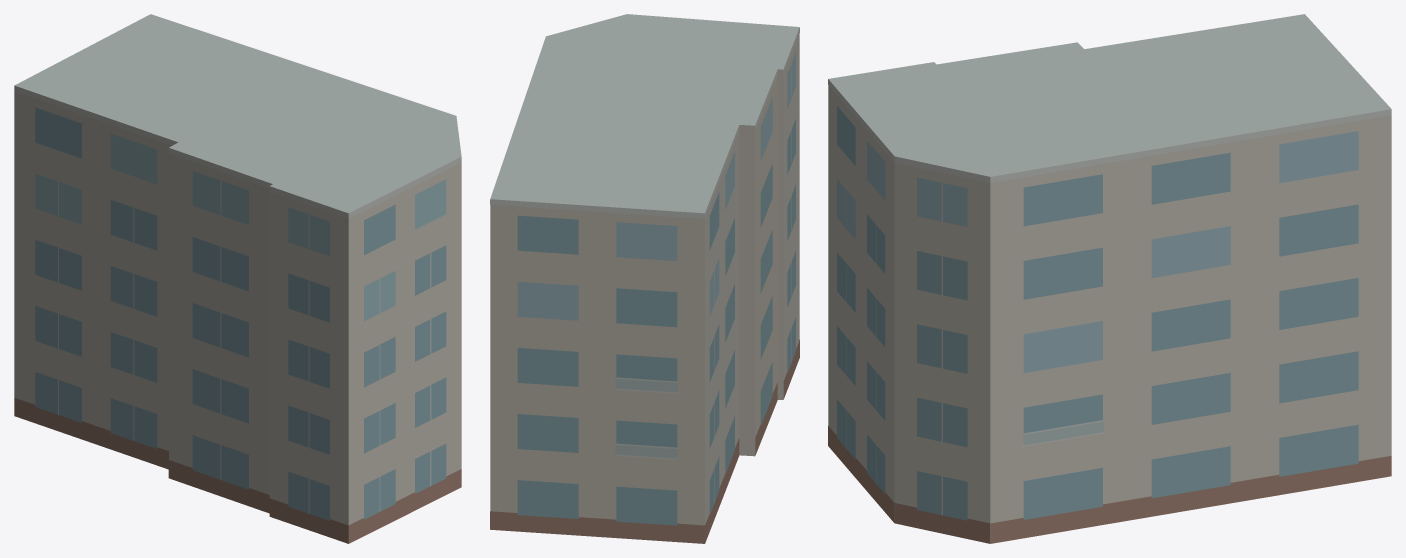
The model's file is survey-upis-32703356.glb.
3 views of the same model, side by side, from view 1: azimuth 30°, elevation 25°; view 2: azimuth 150°, elevation 25°; view 3: azimuth 270°, elevation 25° (orthographic). The views are drawn at different scales.
Parts seen in each view (by area): view 1: survey-upis-32703356.tmp; view 2: survey-upis-32703356.tmp; view 3: survey-upis-32703356.tmp.
Boxes of the visible parts, x1=… form: survey-upis-32703356.tmp: x1=14, y1=14, x2=461, y2=543; survey-upis-32703356.tmp: x1=490, y1=14, x2=799, y2=543; survey-upis-32703356.tmp: x1=828, y1=14, x2=1391, y2=543.
Size of the model in its own units: 13.91 by 14.6 by 20.33.
